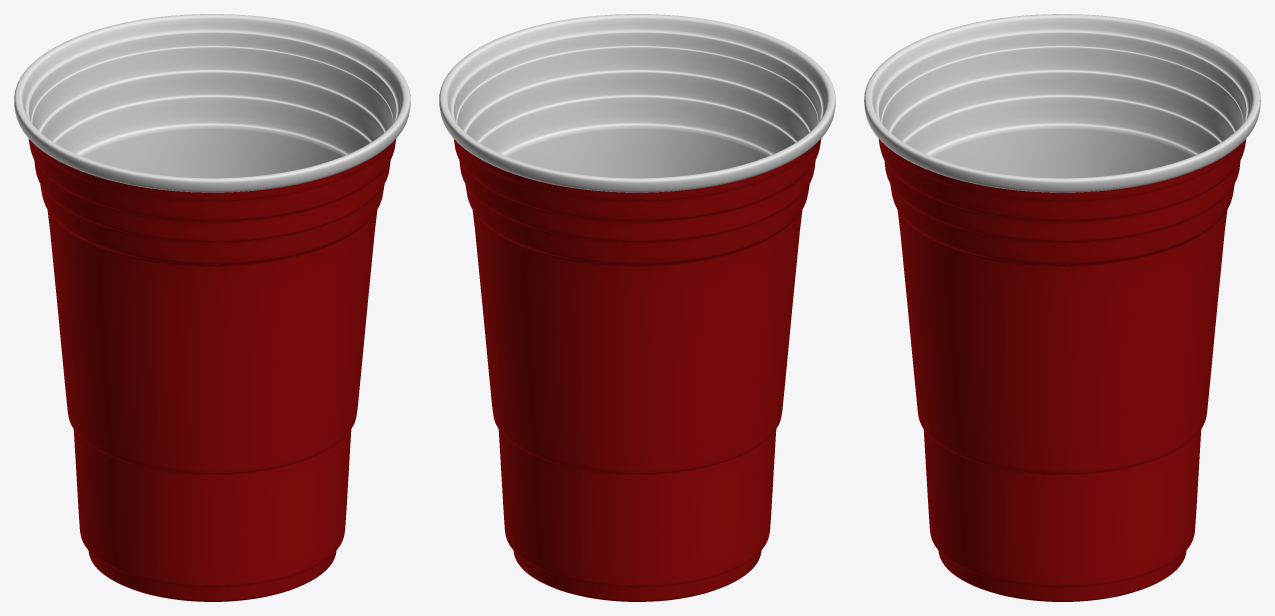
File: Classic_Red_Cup.fbx
The picture shows the model from 3 angles, left to right: view 1: azimuth 30°, elevation 25°; view 2: azimuth 150°, elevation 25°; view 3: azimuth 270°, elevation 25°; orthographic projection.
Visible parts, largest first — view 1: exterior, interior; view 2: exterior, interior; view 3: exterior, interior.
Part boxes in pixels (x1,y1,x2,y2): exterior: (28,139,395,601); interior: (14,14,410,192); exterior: (454,139,821,601); interior: (439,14,835,192); exterior: (878,139,1246,601); interior: (864,14,1260,192).
Size of the model in its own units: 9.5 by 12 by 9.5.
